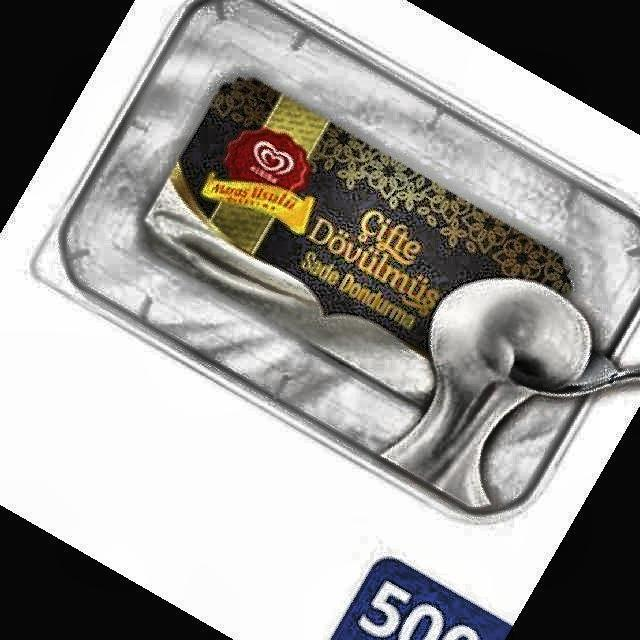plastic: (31, 0, 640, 528)
